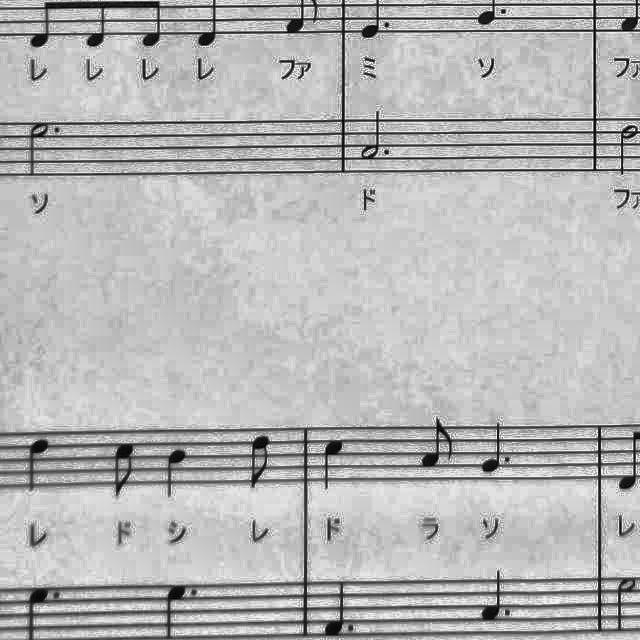Eighth-note: (415, 417, 461, 475), (108, 436, 146, 504), (243, 426, 281, 494), (77, 0, 113, 52), (21, 0, 57, 52), (136, 0, 168, 52)
Half-dot: (475, 566, 521, 626), (26, 116, 64, 184), (355, 107, 395, 165)
Half-note: (611, 567, 640, 632), (614, 119, 640, 180), (639, 567, 640, 632)
Quarter-dot: (319, 576, 363, 640), (158, 578, 204, 638), (476, 419, 518, 481)
Quarter-note: (19, 431, 57, 497), (318, 432, 354, 493), (160, 442, 196, 502), (192, 1, 228, 52)
